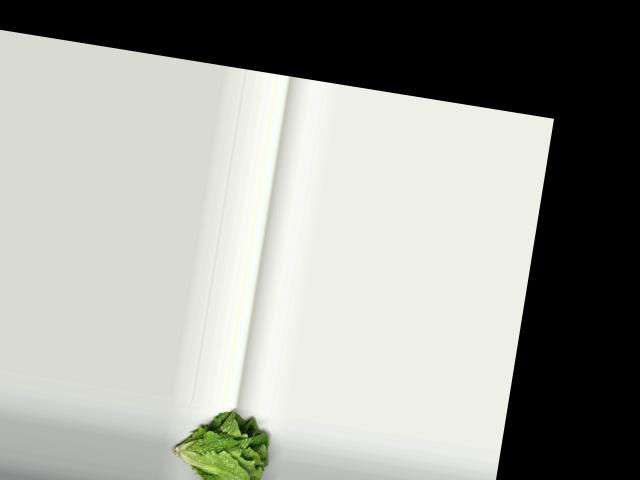lettuce: (159, 396, 280, 480)
